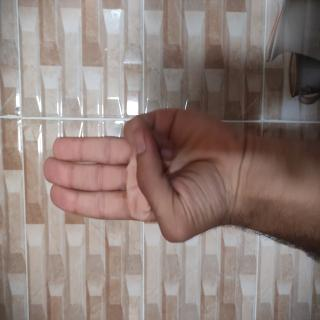THA: (51, 54, 166, 320)
